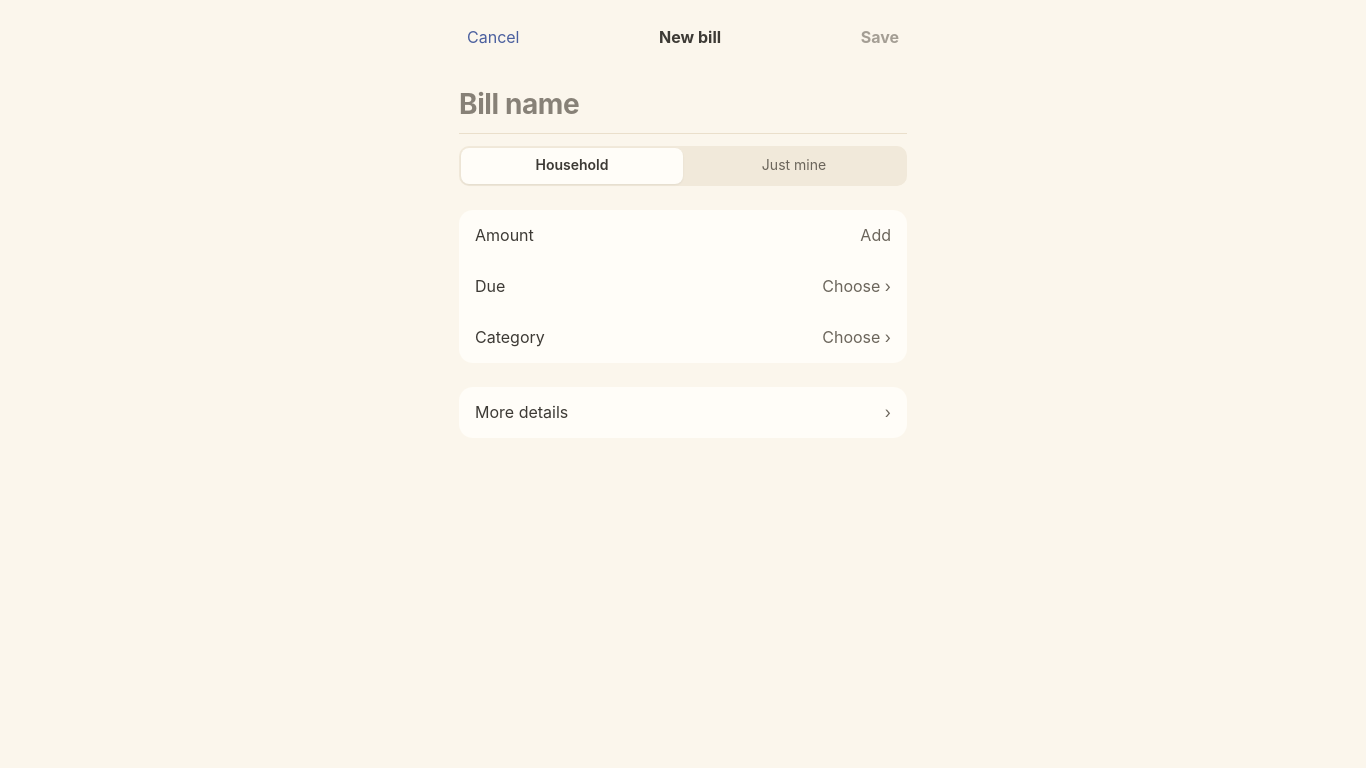
NewBill › the schedule picker offers month (day N from the due date), weeks, year and once
Step 1. Click the button "Due Choose ›" → [490, 286], box [475,261,891,312]
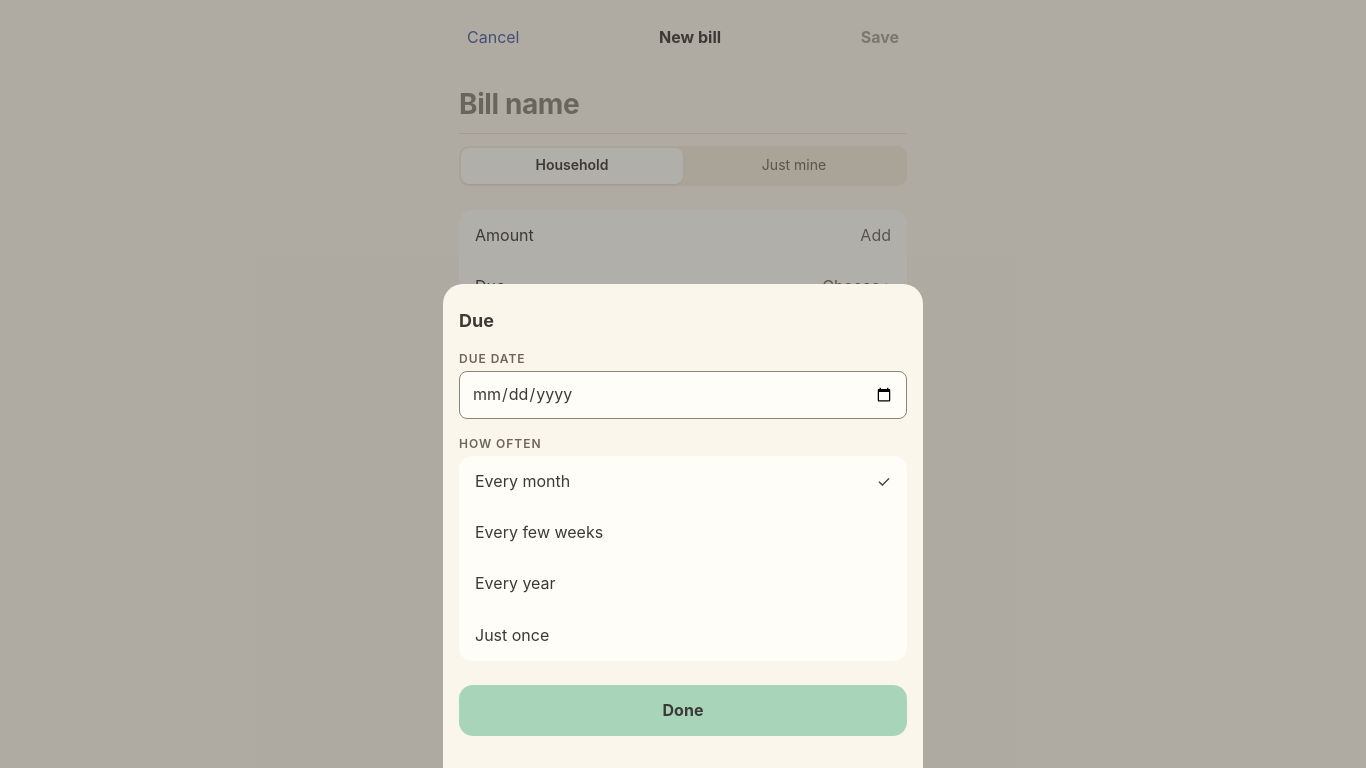
Step 2. Type "2026-12-15" into the date field labelled "Due date" → [683, 395], box [459,372,907,419]
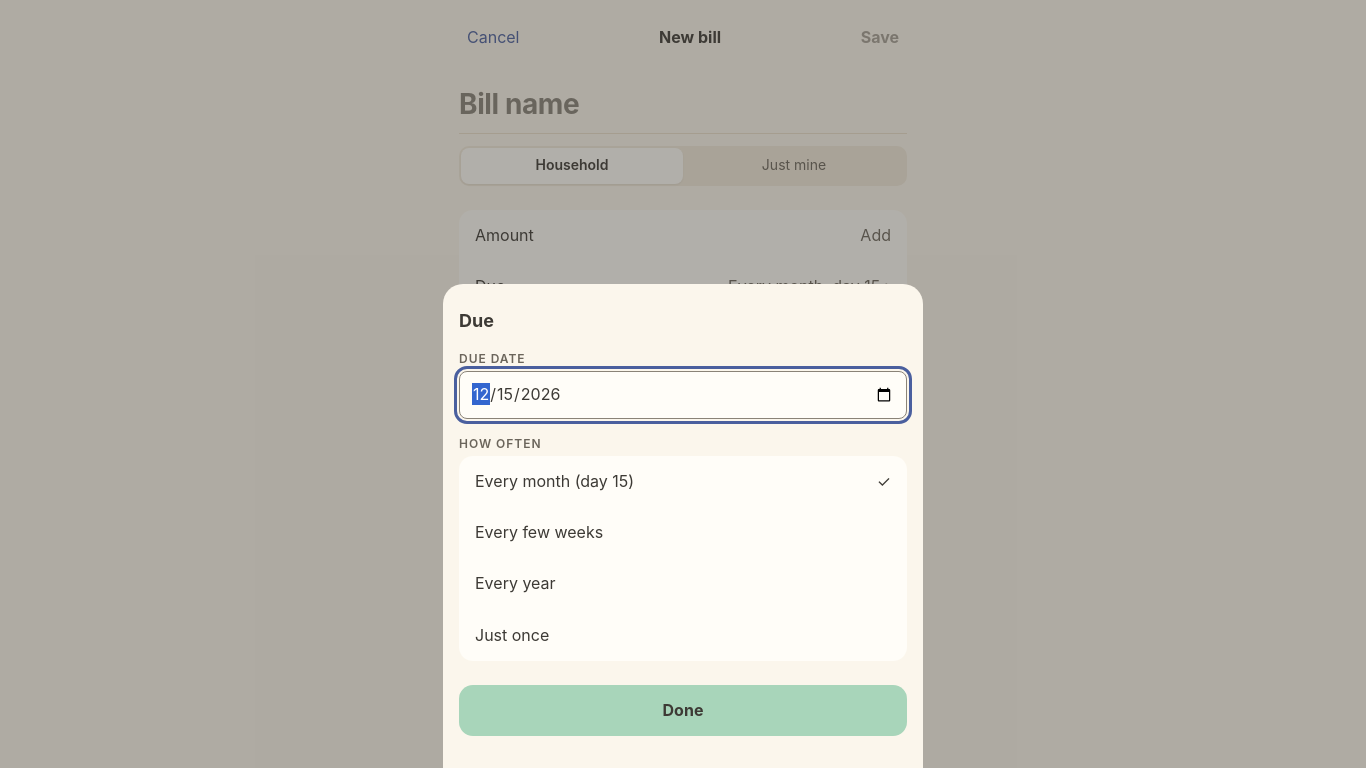
Step 3. Click the button "Done" → [683, 710], box [459,685,907,736]
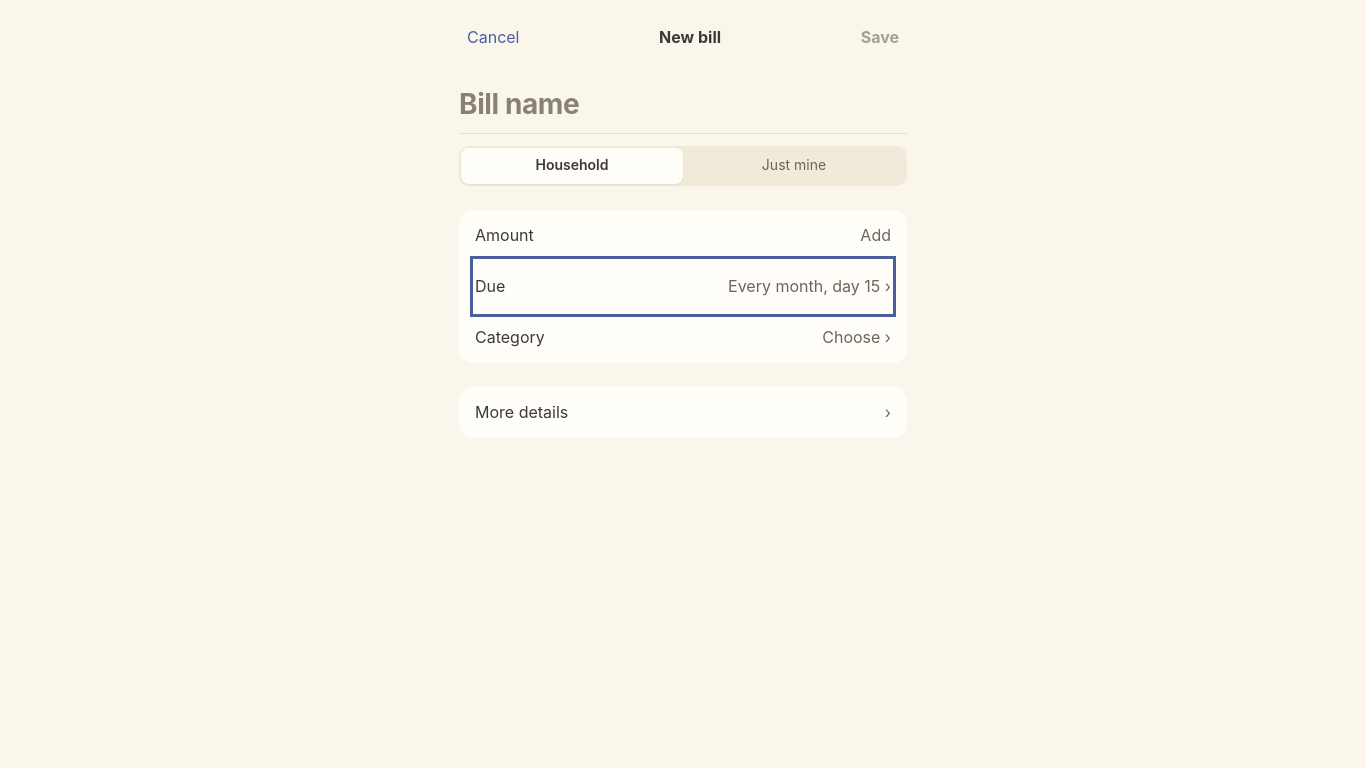
Step 4. Click the button "Due Every month, day 15 ›" → [490, 286], box [475,261,891,312]
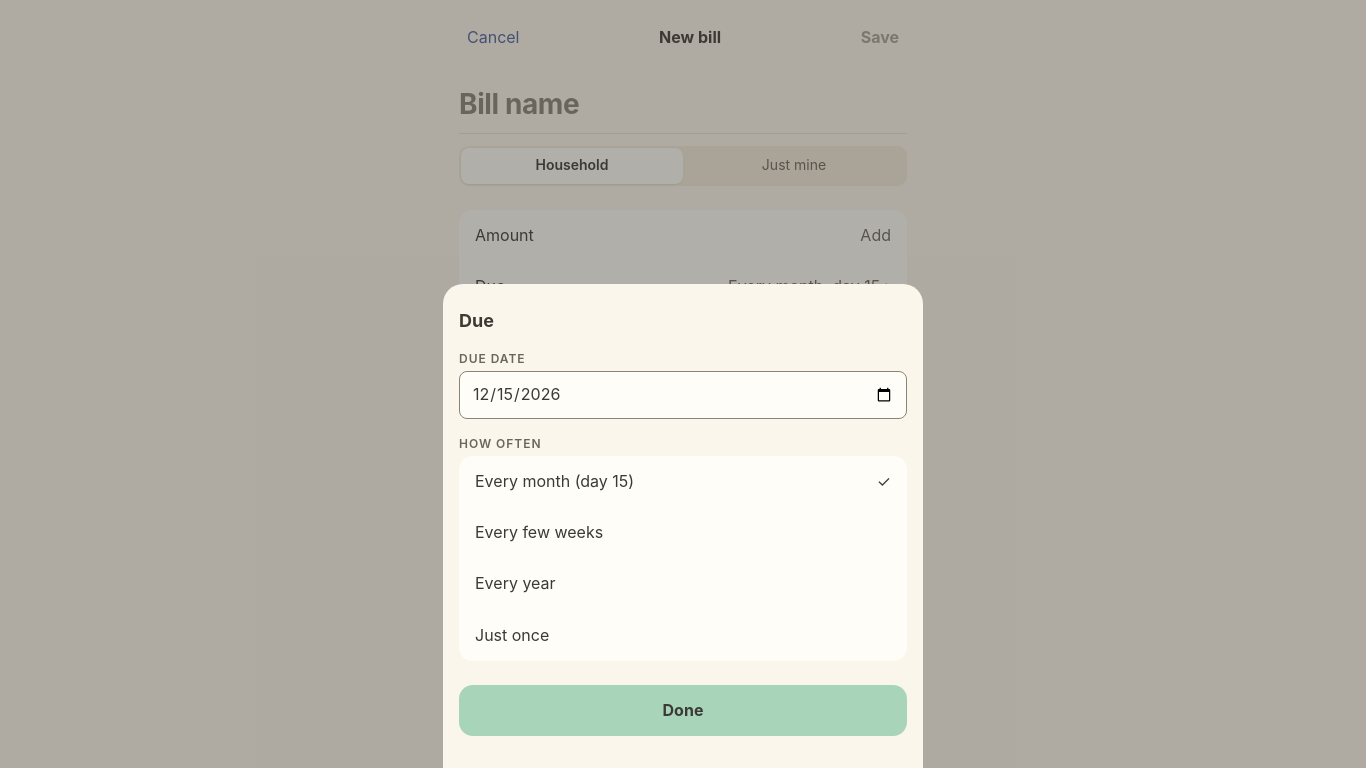
Result: the button "Every month (day 15) ✓" is shown at [475,456,891,507]
Result: the button "Every few weeks" is shown
Result: the button "Every year" is shown at [475,558,891,610]
Step 5. Click the button "Every few weeks" → [539, 532], box [475,507,891,558]
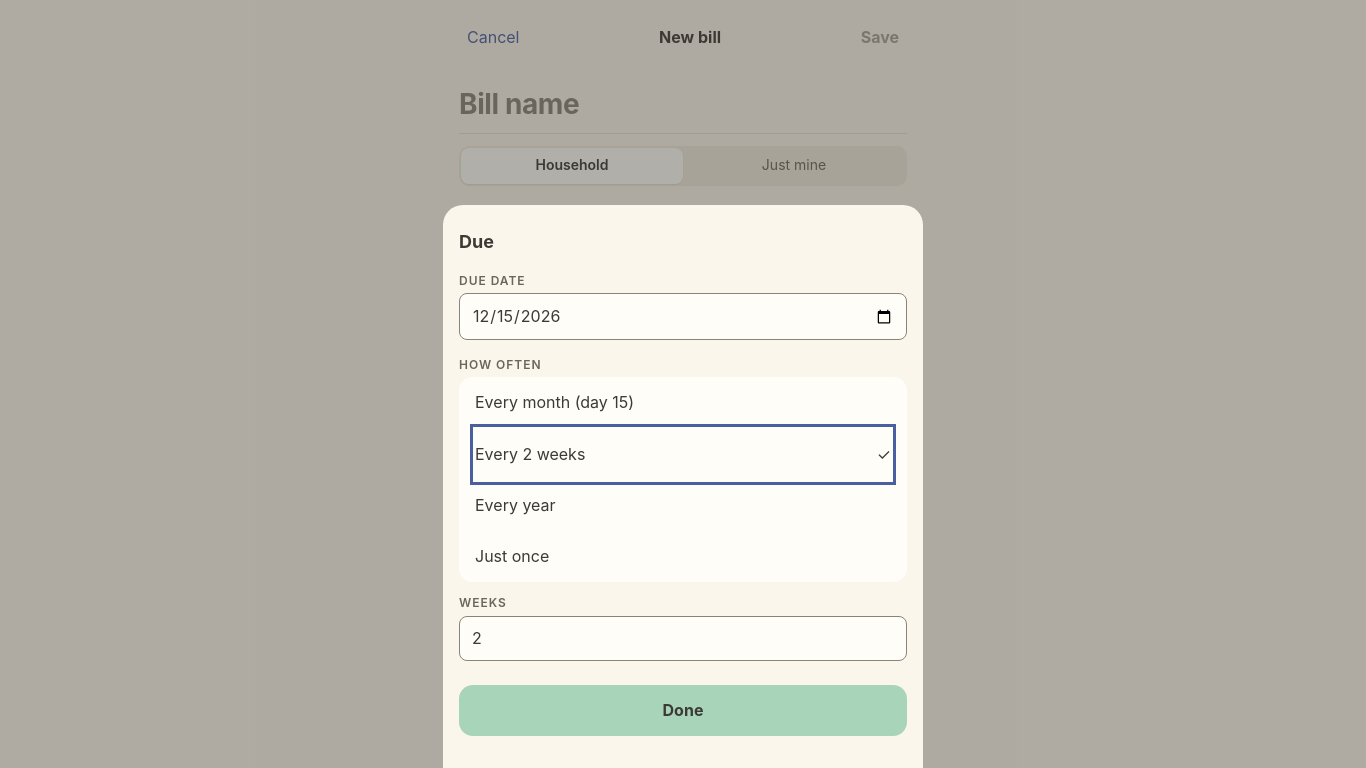
Result: the number field labelled "Weeks" holds "2" at [459,616,907,661]
Result: the button "Every 2 weeks ✓" is shown at [475,429,891,480]
Result: the button "Every month (day 15)" is shown at [475,378,891,429]
